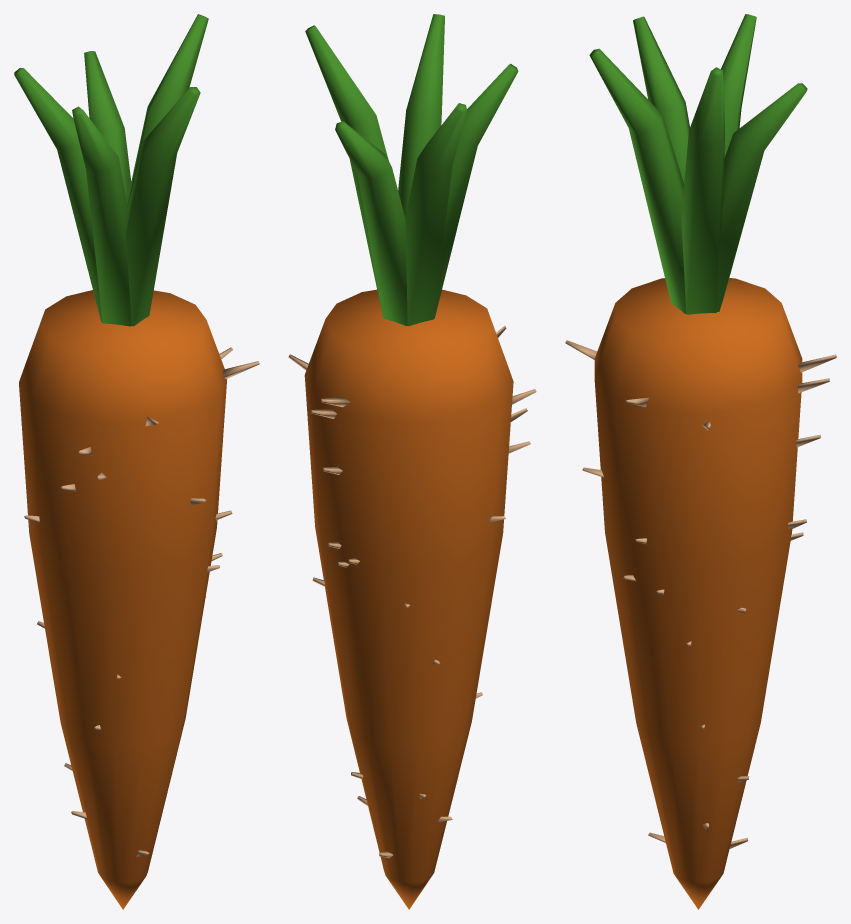
File: fuzzy_carrot.glb
The picture shows the model from 3 angles, left to right: view 1: azimuth 30°, elevation 25°; view 2: azimuth 150°, elevation 25°; view 3: azimuth 270°, elevation 25°; orthographic projection.
Visible parts, largest first — view 1: fuzzy_carrot_v0; view 2: fuzzy_carrot_v0; view 3: fuzzy_carrot_v0.
Boxes of the visible parts, x1,y1,x2,y2 form: fuzzy_carrot_v0: (14,14,259,909); fuzzy_carrot_v0: (288,14,536,909); fuzzy_carrot_v0: (565,14,836,909).
Size of the model in its own units: 0.1171 by 0.4579 by 0.1274.
